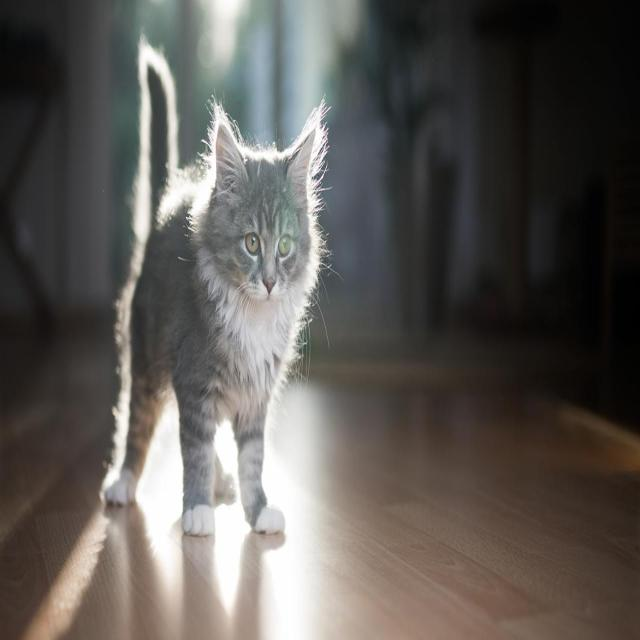Cat: (198, 98, 336, 326)
